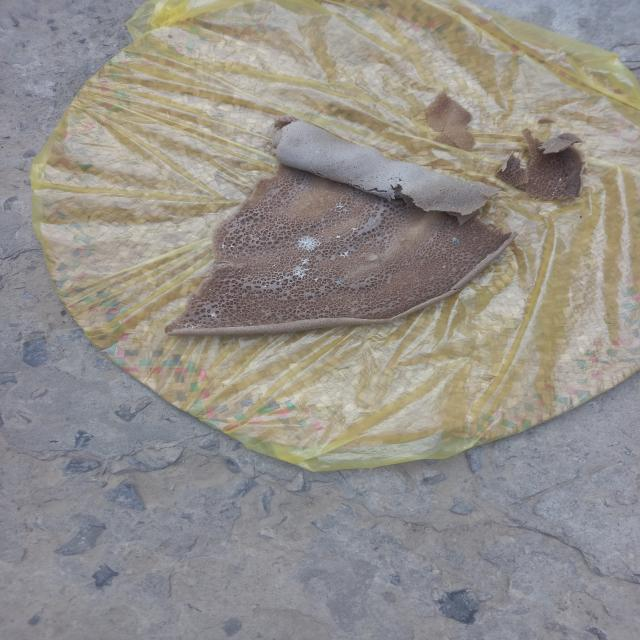injera_mold: (296, 234, 322, 253), (290, 264, 310, 282), (332, 201, 353, 216), (178, 320, 205, 329), (449, 234, 462, 247), (337, 250, 353, 260), (333, 277, 347, 287), (209, 310, 220, 319), (314, 150, 321, 154)
